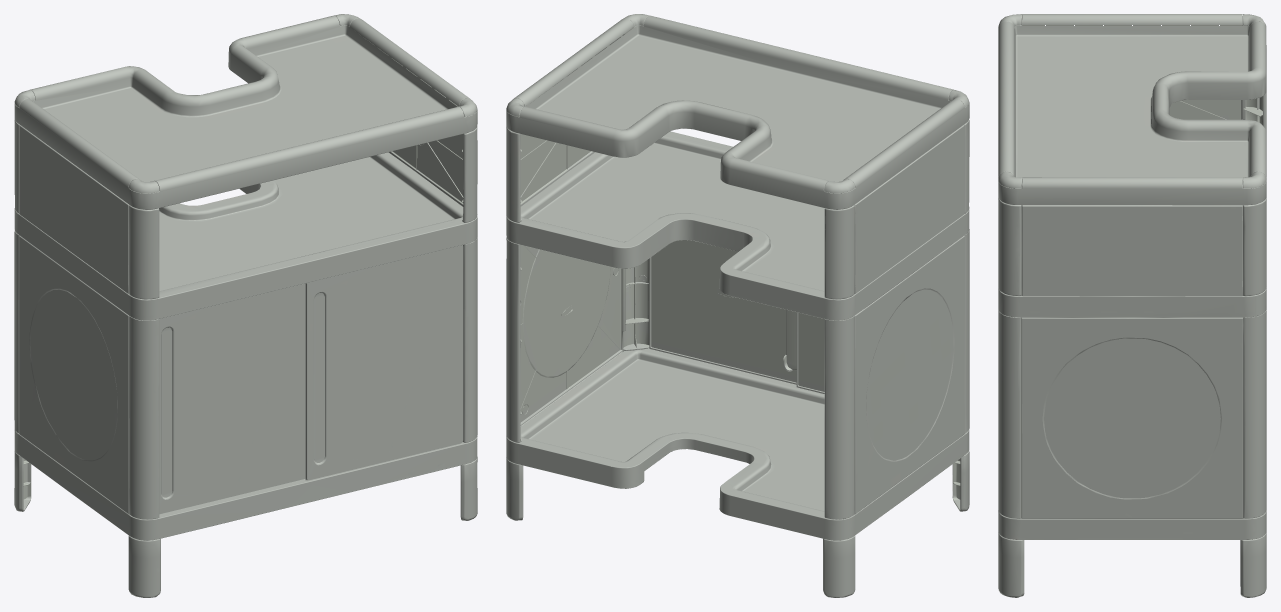
Rendered from ivosjon_szafka_stojaca_pod_umywalke_20597292.glb.
The picture shows the model from 3 angles, left to right: view 1: azimuth 30°, elevation 25°; view 2: azimuth 150°, elevation 25°; view 3: azimuth 270°, elevation 25°; orthographic projection.
Visible parts, largest first — view 1: ivosjon_szafka_stojaca_pod_umywalke_20597292; view 2: ivosjon_szafka_stojaca_pod_umywalke_20597292; view 3: ivosjon_szafka_stojaca_pod_umywalke_20597292.
Boxes of the visible parts, <box> form: ivosjon_szafka_stojaca_pod_umywalke_20597292: <box>14,14,477,597</box>; ivosjon_szafka_stojaca_pod_umywalke_20597292: <box>506,14,969,597</box>; ivosjon_szafka_stojaca_pod_umywalke_20597292: <box>998,14,1266,597</box>.
Bounding box in the file's own units: 0.5004 × 0.5719 × 0.3336.
Materials: 2 (2 with a texture image).
